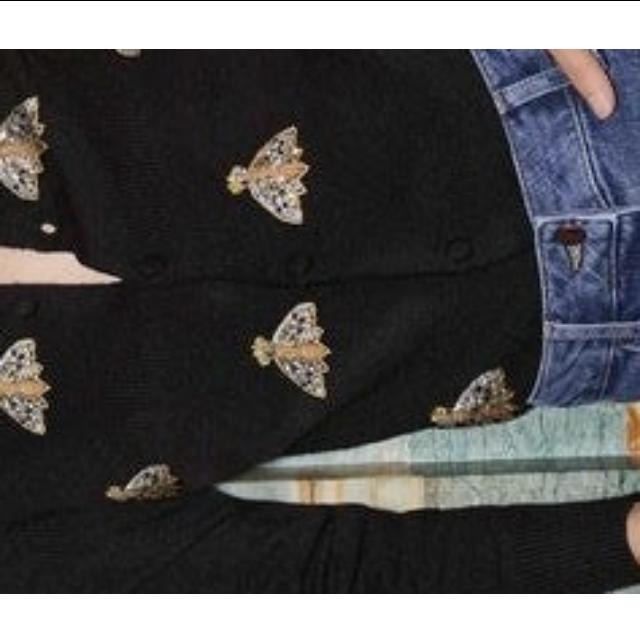denim: (440, 47, 640, 403)
